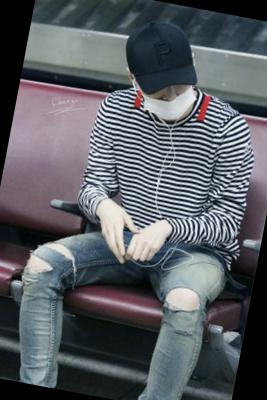mask_weared_incorrect: (133, 76, 201, 127)
